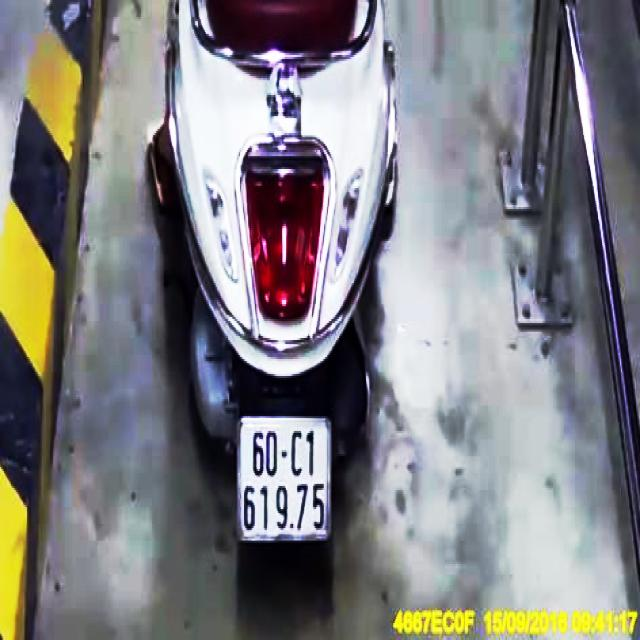license_plate: (238, 422, 332, 539)
